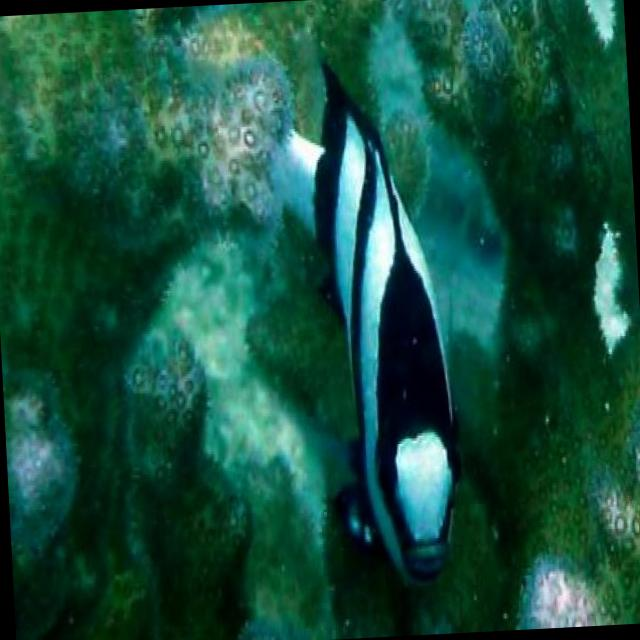Three_striped DasmselFish: (266, 57, 474, 584)
